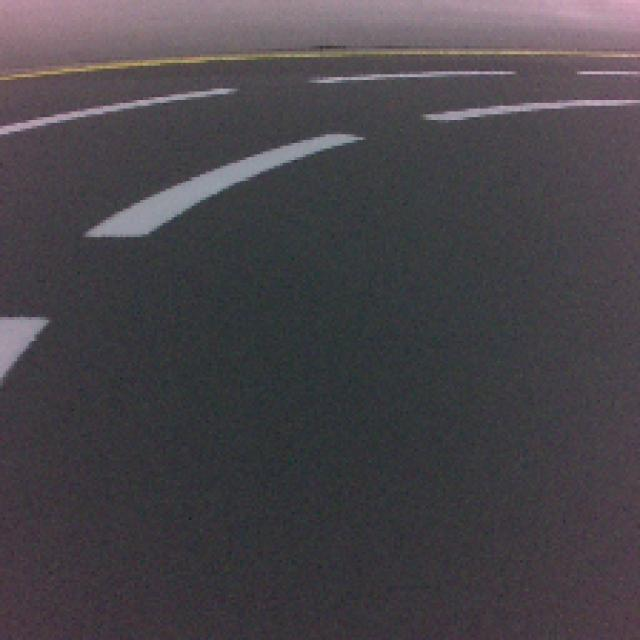Road: (0, 315, 640, 640)
